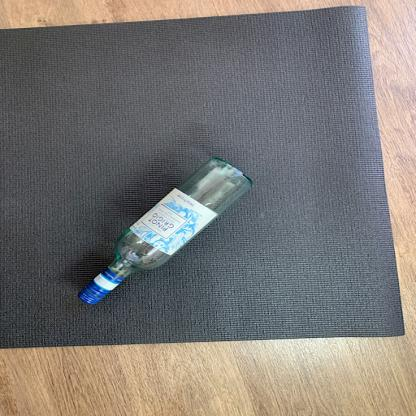trash: (75, 157, 254, 310)
